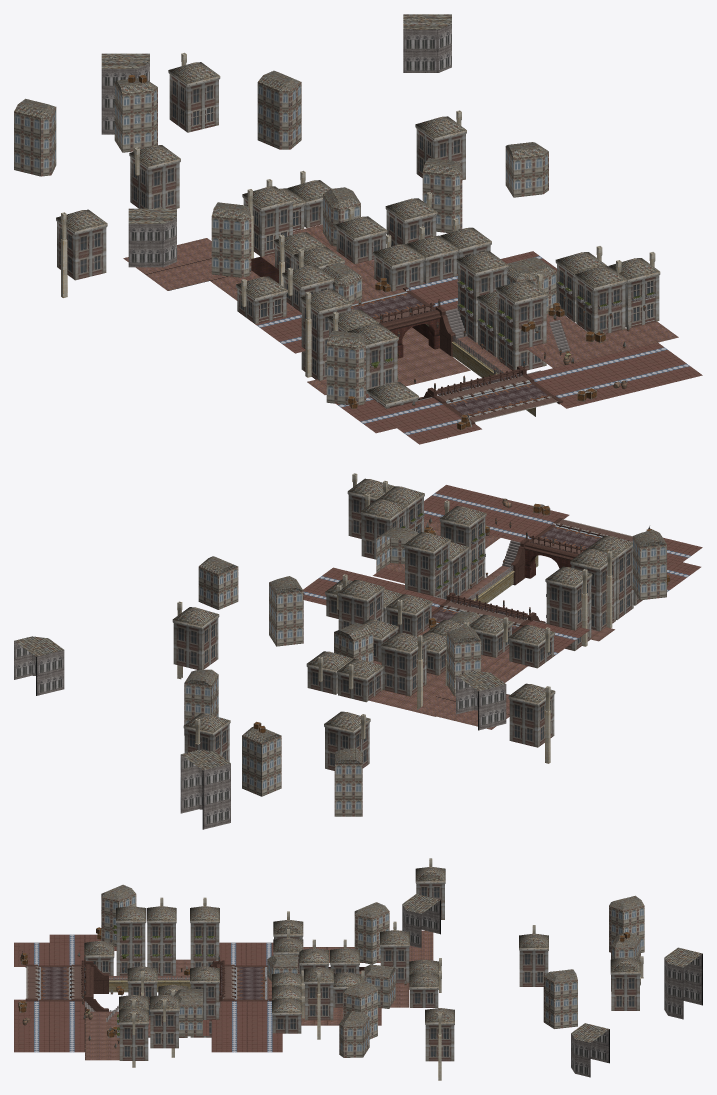
File: stage_Western style.fbx
3 renders of one model, top to bottom at view 1: azimuth 30°, elevation 25°; view 2: azimuth 150°, elevation 25°; view 3: azimuth 270°, elevation 25°, orthographic. The views are drawn at different scales.
Parts seen in each view (by area): view 1: polymsh241, polymsh239, polymsh, polymsh240; view 2: polymsh241, polymsh239, polymsh; view 3: polymsh241, polymsh239, polymsh.
Boxes of the visible parts, x1,y1,x2,y2 form: polymsh241: (14,14,660,430); polymsh239: (123,224,702,444); polymsh: (371,280,656,379); polymsh240: (251,256,439,358); polymsh241: (14,473,670,829); polymsh239: (303,485,702,729); polymsh: (401,512,546,623); polymsh241: (18,858,702,1080); polymsh239: (14,928,433,1060); polymsh: (109,925,215,1037).
Size of the model in its own units: 467 by 102 by 718.
